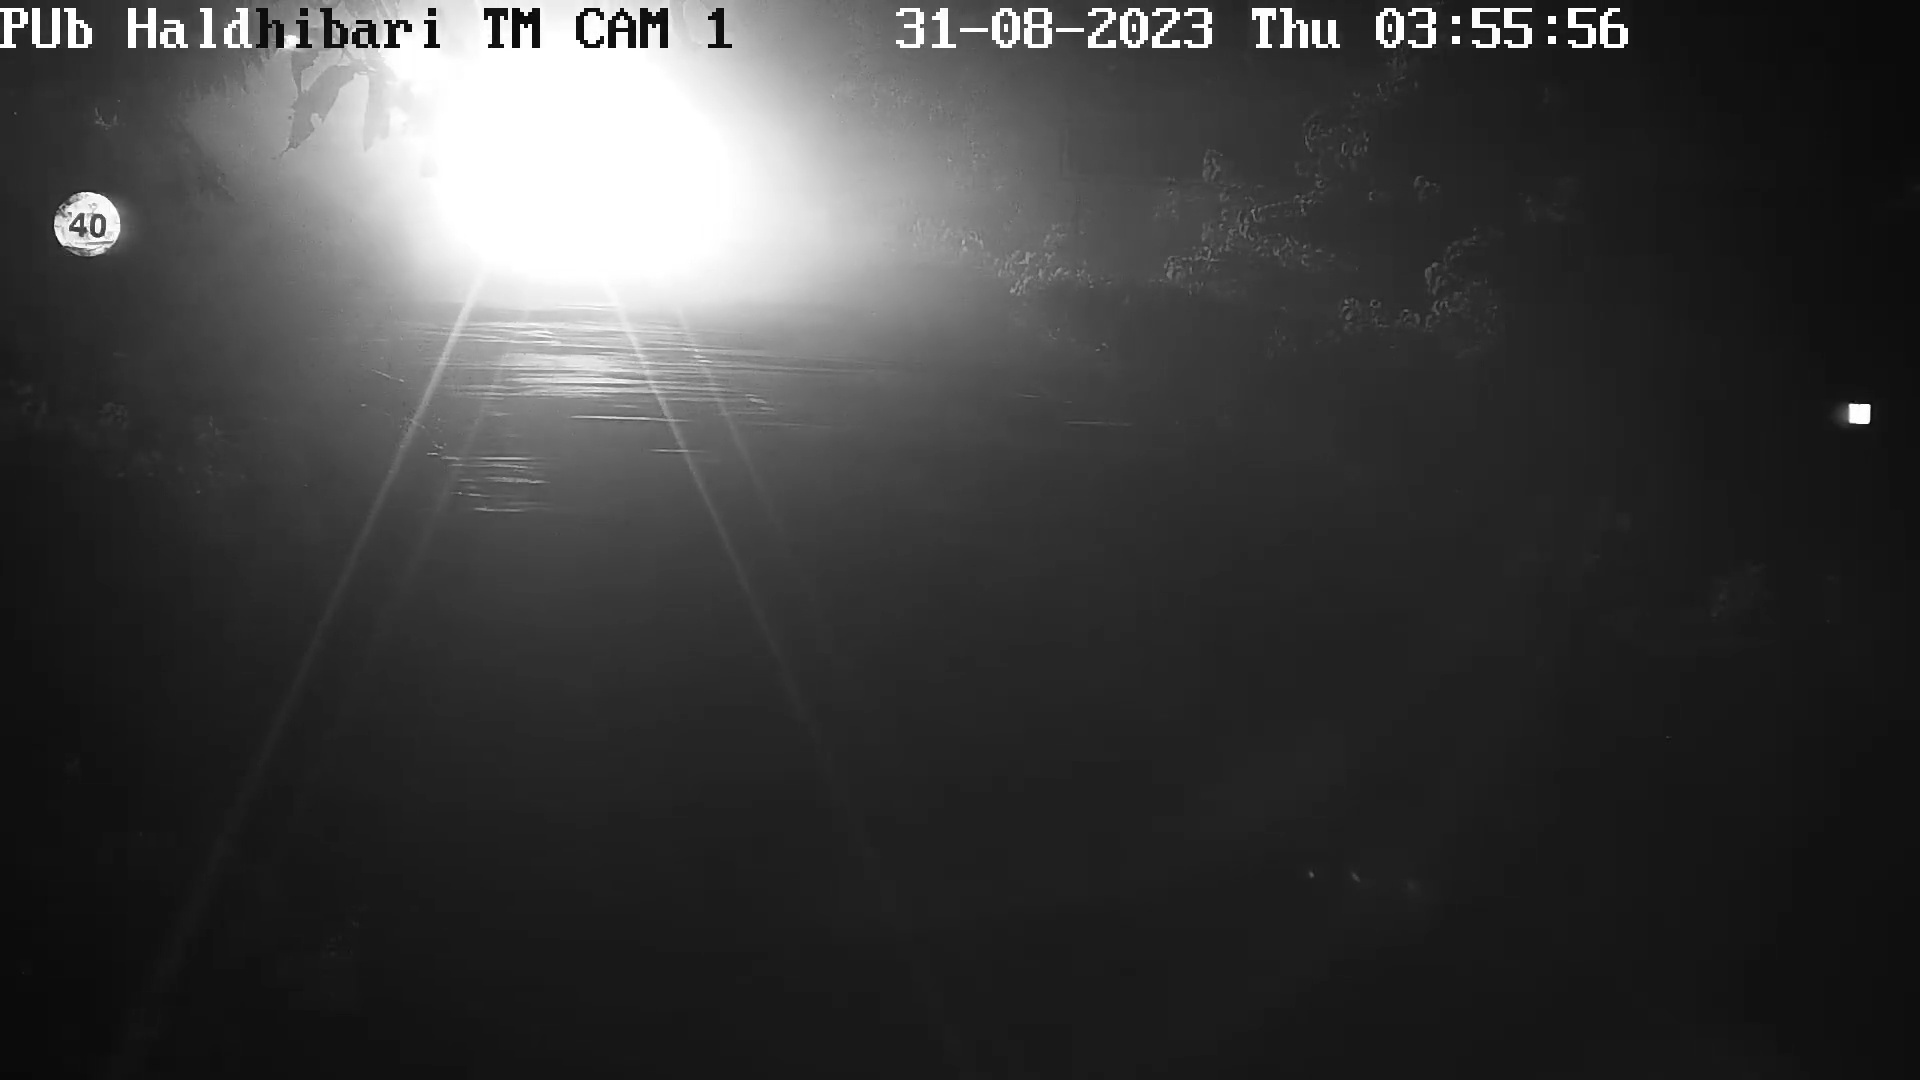deers: (351, 355, 414, 411)
